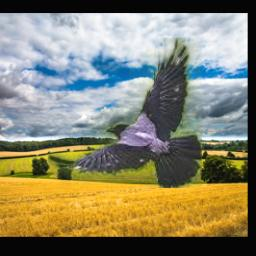Crow: (48, 38, 202, 188)
